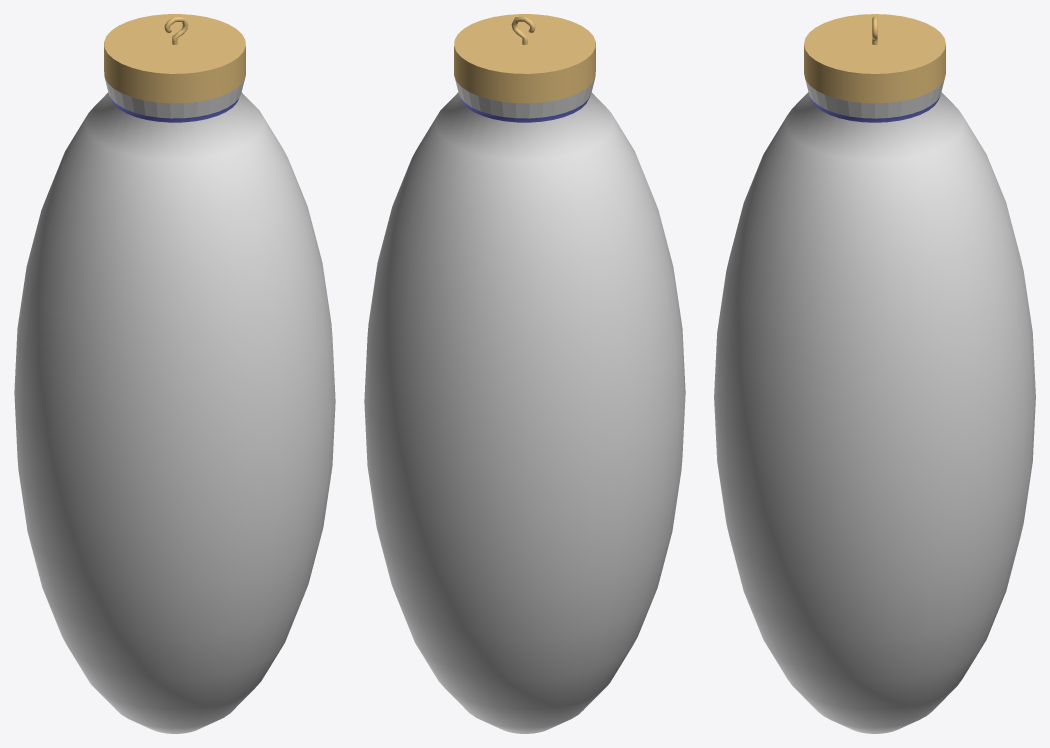
File: bauble_thin.fbx
3 views of the same model, side by side, from view 1: azimuth 30°, elevation 25°; view 2: azimuth 150°, elevation 25°; view 3: azimuth 270°, elevation 25° (orthographic).
Parts seen in each view (by area): view 1: Bauble_Thin; view 2: Bauble_Thin; view 3: Bauble_Thin.
Part boxes in pixels (left/top/right/bottom): Bauble_Thin: left=14, top=14, right=335, bottom=733; Bauble_Thin: left=364, top=14, right=685, bottom=733; Bauble_Thin: left=714, top=14, right=1035, bottom=733.
Size of the model in its own units: 22.11 by 53.79 by 22.11.
